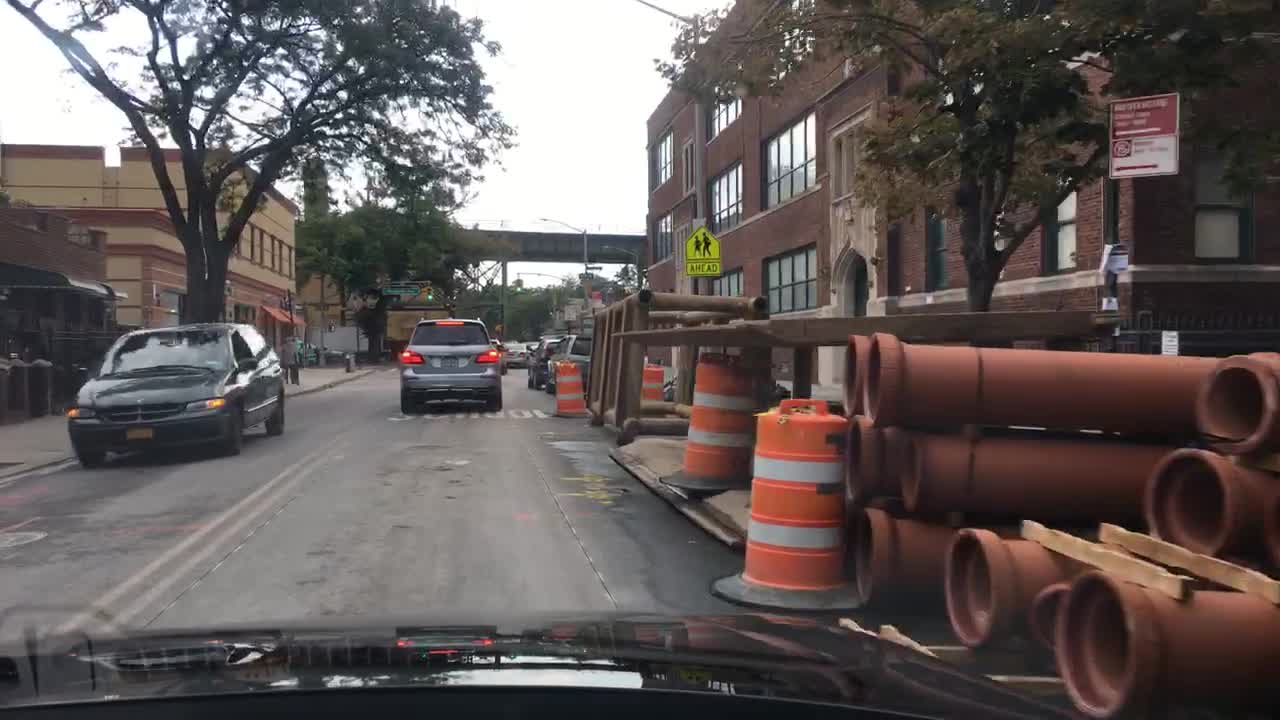car: (65, 320, 287, 467), (397, 317, 502, 415), (544, 334, 592, 393), (524, 337, 561, 389), (503, 340, 533, 369), (491, 337, 511, 376), (521, 339, 538, 352)
person: (275, 334, 300, 385)
traffic light: (421, 283, 434, 300)
traffic sign: (1107, 94, 1183, 178), (683, 225, 722, 260), (683, 258, 722, 275), (379, 282, 419, 297), (586, 289, 604, 309), (563, 305, 578, 322)
